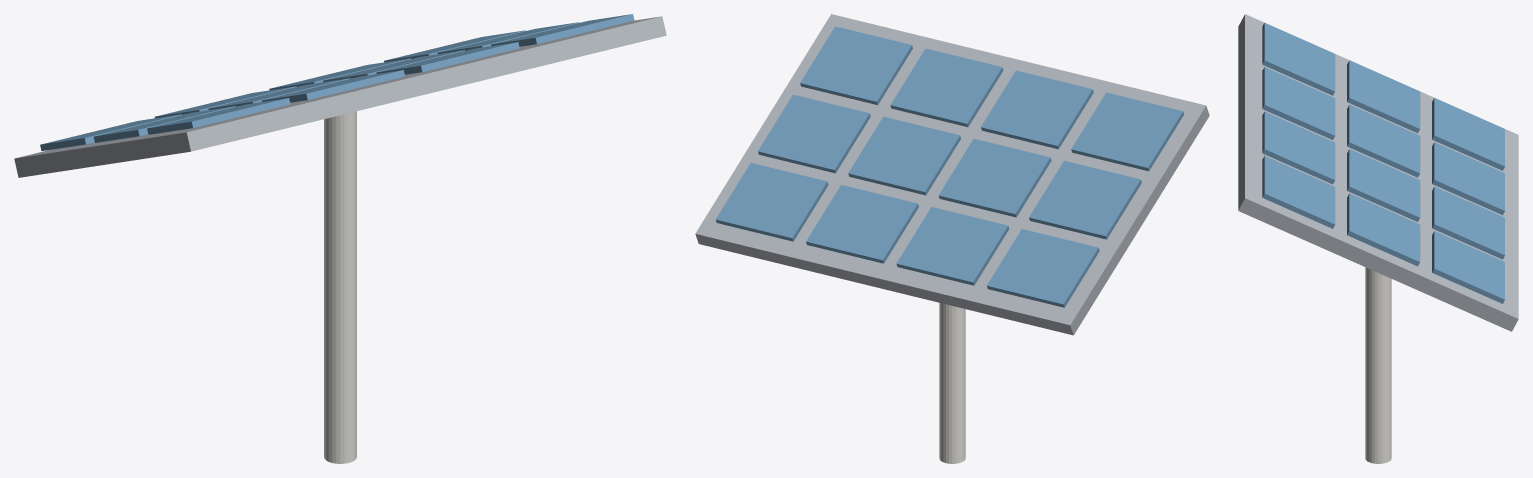
Rendered from solar_panel.glb.
The picture shows the model from 3 angles, left to right: view 1: azimuth 30°, elevation 25°; view 2: azimuth 150°, elevation 25°; view 3: azimuth 270°, elevation 25°; orthographic projection. The views are drawn at different scales.
Visible parts, largest first — view 1: panel, post; view 2: panel, post; view 3: panel, post.
Boxes of the visible parts, x1,y1,x2,y2 form: panel: [14, 14, 666, 177]; post: [324, 111, 356, 463]; panel: [695, 14, 1209, 335]; post: [939, 303, 965, 463]; panel: [1238, 14, 1518, 331]; post: [1365, 267, 1391, 463].
Bounding box in the file's own units: 1.66 × 1.48 × 1.07.
